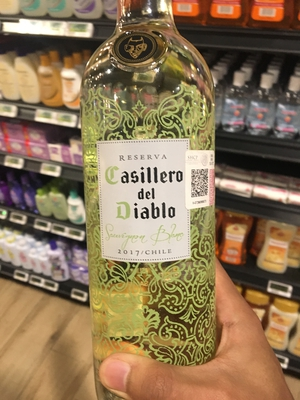casillero del diablo sauvignon blanc: (75, 6, 230, 400)
